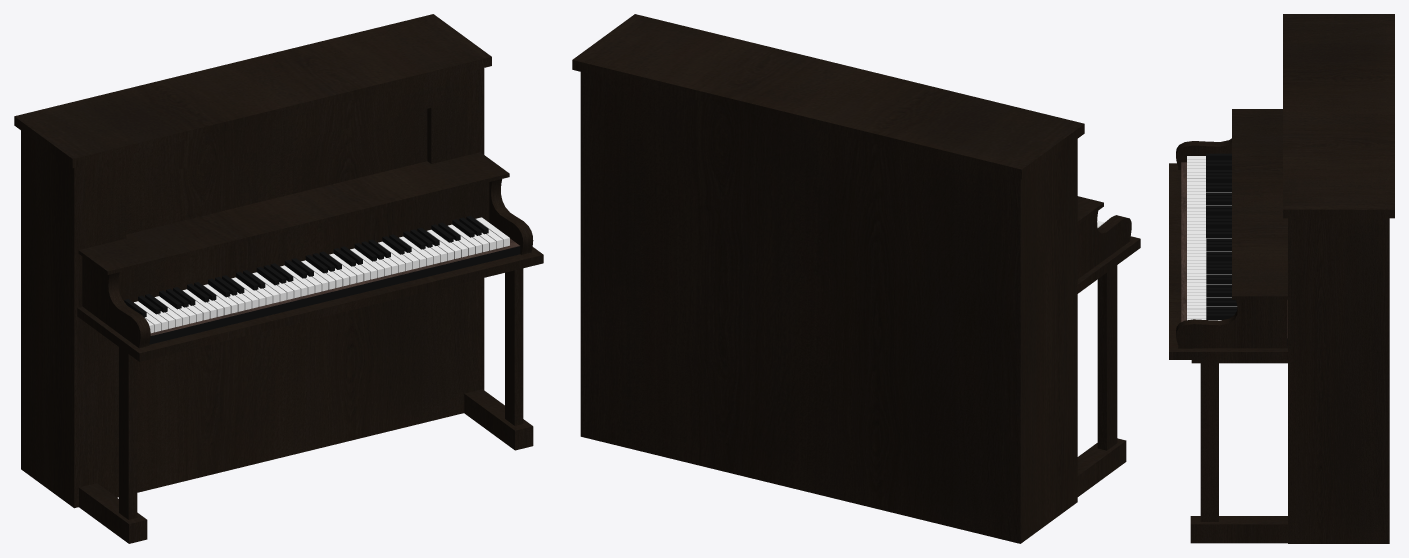
File: Piano.FBX
3 renders of one model, left to right at view 1: azimuth 30°, elevation 25°; view 2: azimuth 150°, elevation 25°; view 3: azimuth 270°, elevation 25°, orthographic. The views are drawn at different scales.
Visible parts, largest first — view 1: piano; view 2: piano; view 3: piano.
Boxes of the visible parts, x1,y1,x2,y2 form: piano: (14,14,543,543); piano: (572,14,1140,543); piano: (1169,14,1394,543).
Bounding box in the file's own units: 147 × 118 × 71.76.
2 materials, 2 textured.
